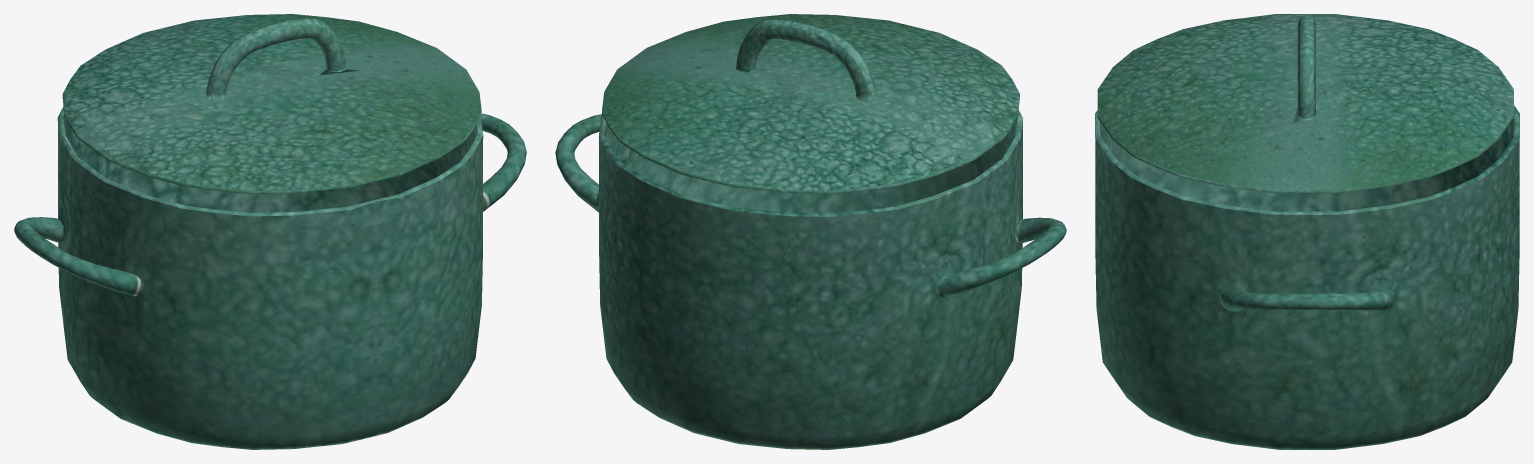
Rendered from Pan.fbx.
3 views of the same model, side by side, from view 1: azimuth 30°, elevation 25°; view 2: azimuth 150°, elevation 25°; view 3: azimuth 270°, elevation 25° (orthographic).
Parts seen in each view (by area): view 1: pan1, deksel1; view 2: pan1, deksel1; view 3: pan1, deksel1.
Part boxes in pixels (left/top/right/bottom): pan1: left=14, top=69, right=526, bottom=449; deksel1: left=62, top=14, right=481, bottom=194; pan1: left=555, top=60, right=1066, bottom=449; deksel1: left=602, top=14, right=1019, bottom=193; pan1: left=1095, top=105, right=1519, bottom=449; deksel1: left=1097, top=14, right=1513, bottom=192.
Bounding box in the file's own units: 35.49 × 24.2 × 26.93.
Materials: 1 (1 with a texture image).
